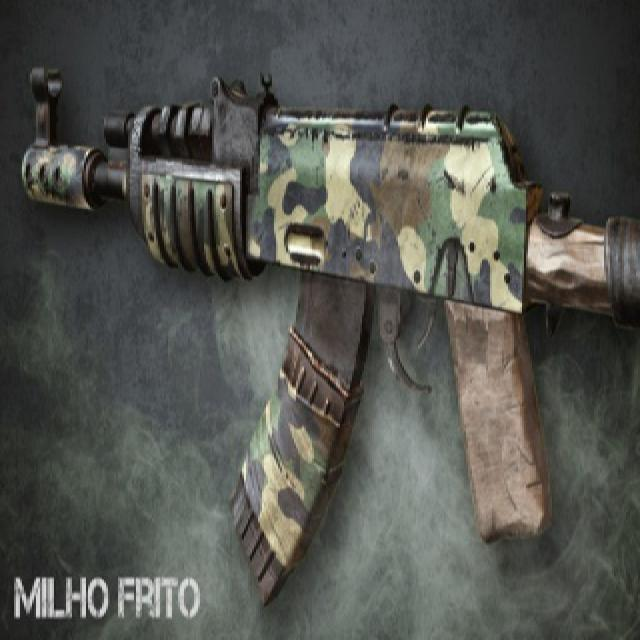weapon: (4, 54, 638, 590)
